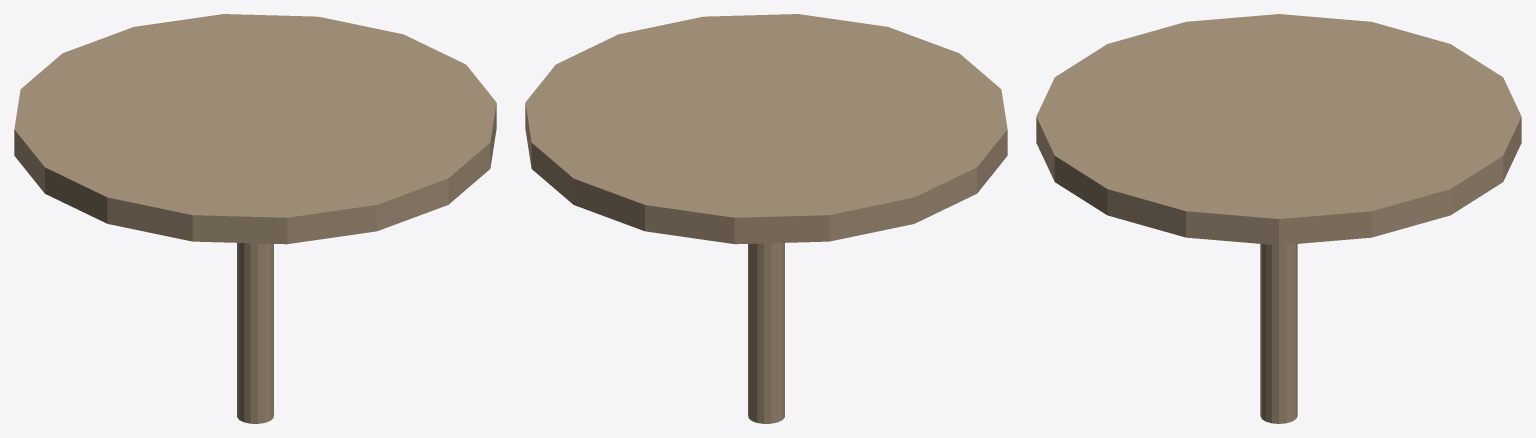
File: Tables.fbx
3 renders of one model, left to right at view 1: azimuth 30°, elevation 25°; view 2: azimuth 150°, elevation 25°; view 3: azimuth 270°, elevation 25°, orthographic.
Visible parts, largest first — view 1: Cylinder; view 2: Cylinder; view 3: Cylinder.
Boxes of the visible parts, x1=… form: Cylinder: x1=14, y1=14, x2=496, y2=423; Cylinder: x1=525, y1=14, x2=1007, y2=423; Cylinder: x1=1036, y1=14, x2=1521, y2=423.
Bounding box in the file's own units: 671 × 457 × 671.
